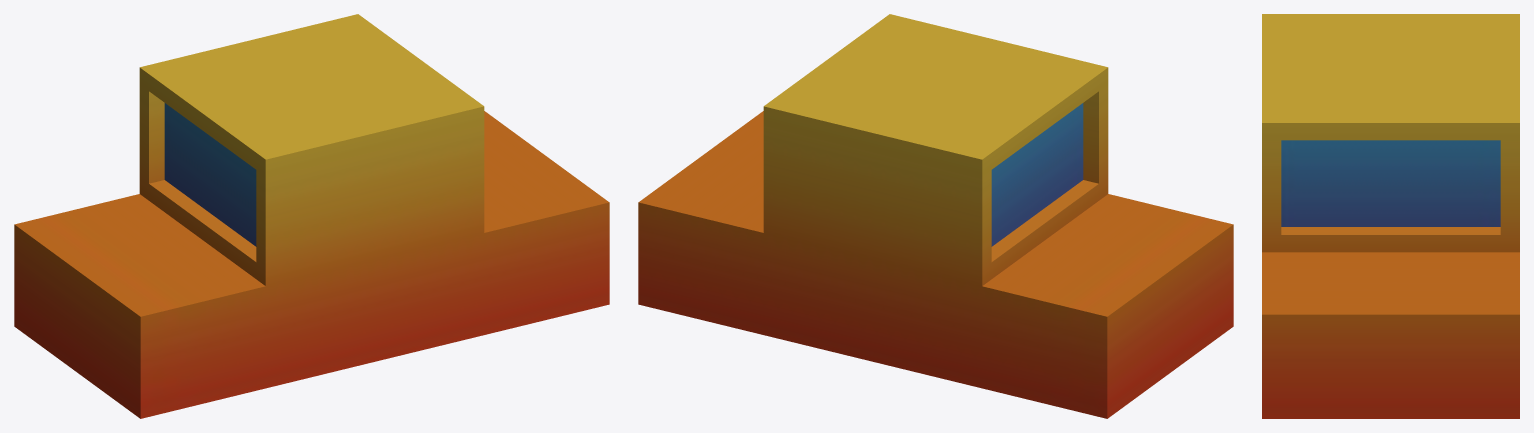
File: cinema4d_car.glb
The picture shows the model from 3 angles, left to right: view 1: azimuth 30°, elevation 25°; view 2: azimuth 150°, elevation 25°; view 3: azimuth 270°, elevation 25°; orthographic projection. The views are drawn at different scales.
Visible parts, largest first — view 1: 자동차; view 2: 자동차; view 3: 자동차.
Boxes of the visible parts, x1,y1,x2,y2 form: 자동차: [14, 14, 609, 418]; 자동차: [638, 14, 1233, 418]; 자동차: [1262, 14, 1519, 418].
Bounding box in the file's own units: 236 × 110 × 110.
Materials: 1 (1 with a texture image).
